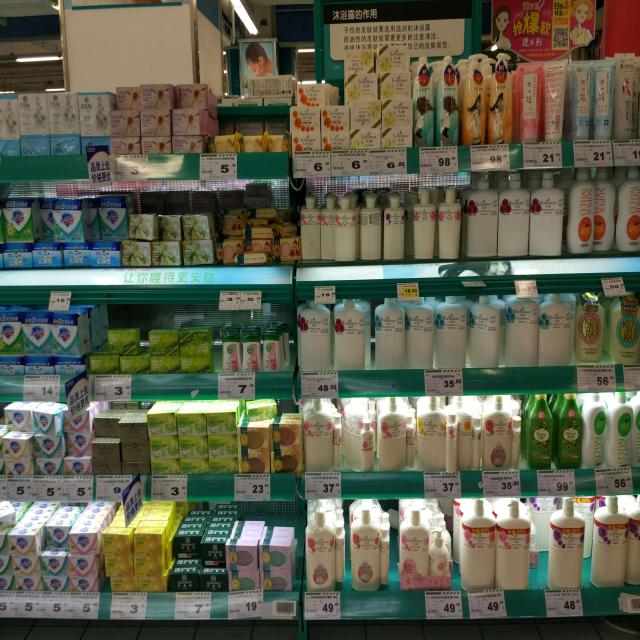unorganised: (467, 297, 504, 369), (248, 208, 295, 261), (131, 212, 210, 242), (301, 196, 335, 262), (343, 405, 374, 468), (594, 170, 617, 254), (360, 196, 384, 265), (175, 537, 228, 567), (1, 409, 64, 434), (94, 200, 128, 243), (218, 115, 288, 135), (33, 200, 55, 240), (244, 399, 277, 422), (93, 415, 121, 442), (43, 527, 72, 553), (176, 85, 207, 109), (113, 87, 139, 109), (221, 212, 243, 238)
